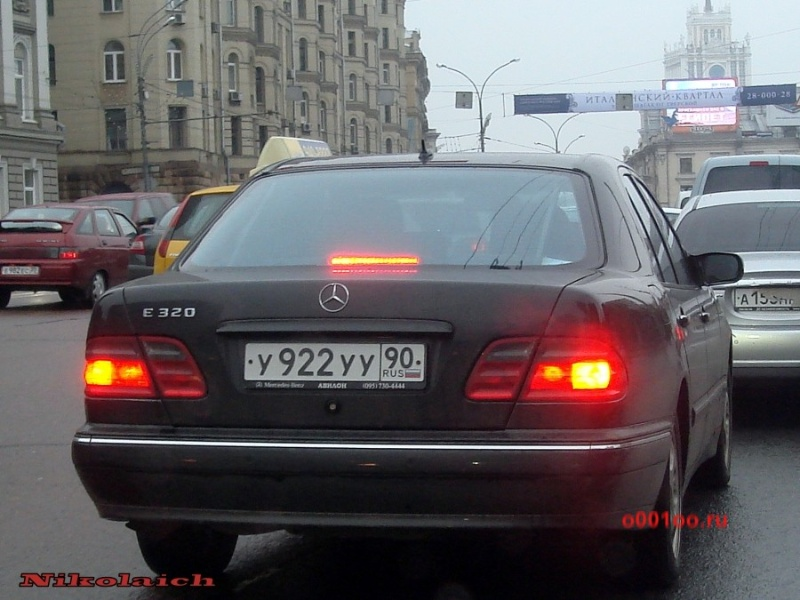car: (72, 154, 745, 575), (676, 189, 800, 365), (1, 204, 145, 307), (153, 185, 242, 275)
plate: (246, 344, 423, 380), (733, 290, 800, 308), (4, 267, 42, 275)
